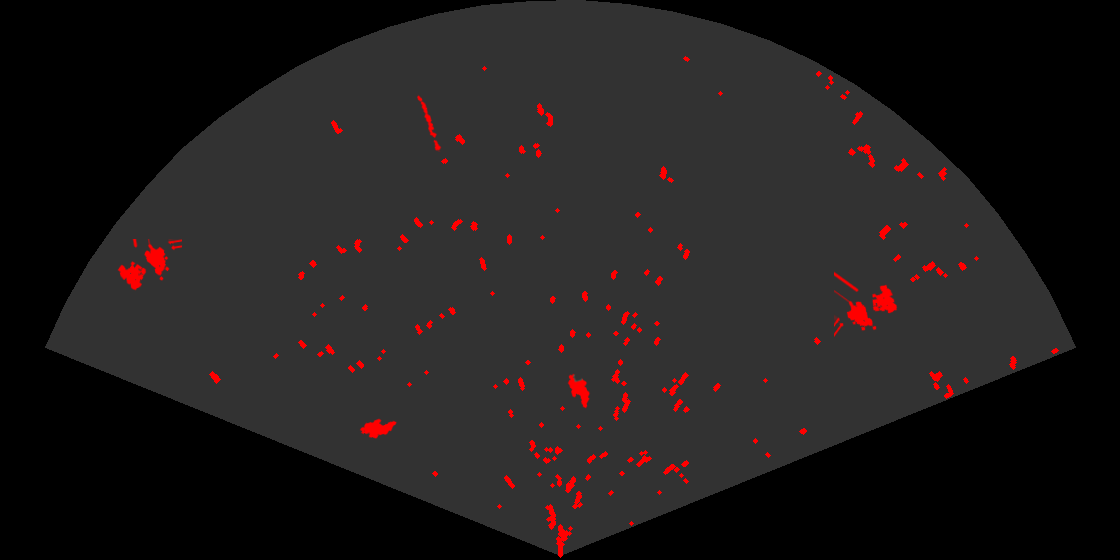AUV: (566, 372, 592, 410), (358, 417, 399, 440)
cage: (834, 270, 899, 339), (116, 239, 182, 292)
chain: (415, 93, 443, 152)
